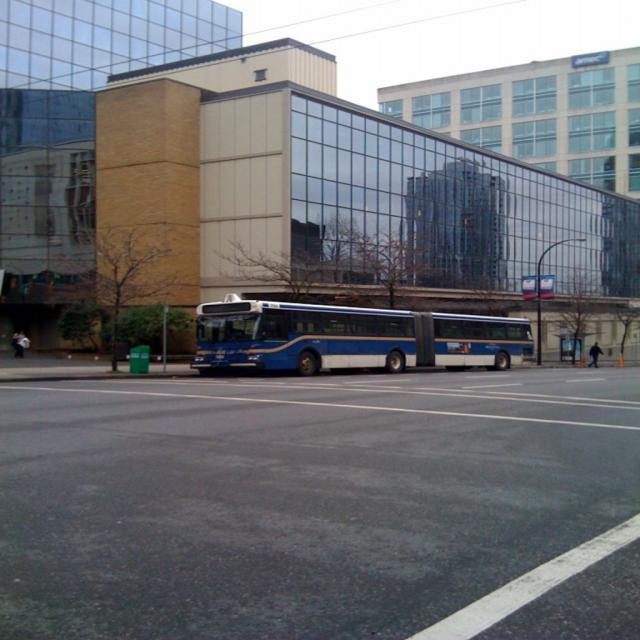motorcycle: (185, 290, 533, 378)
